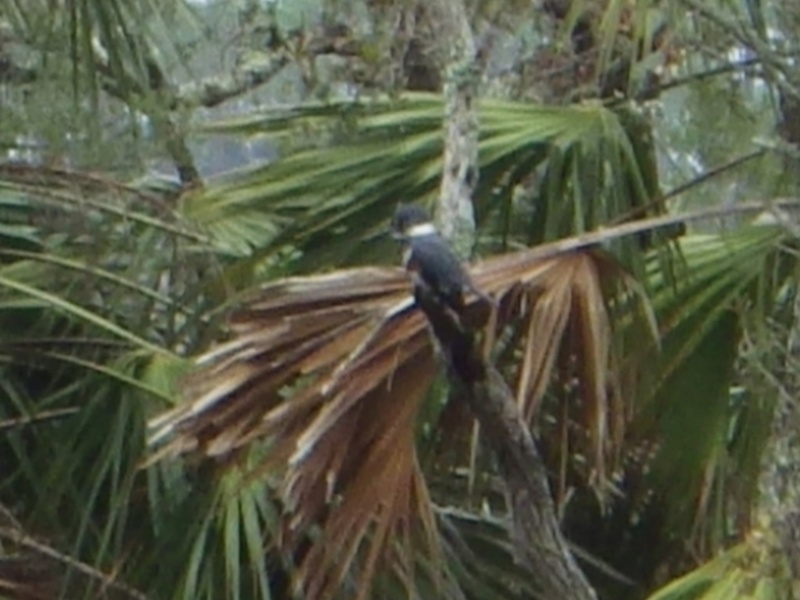kingfisher: (386, 198, 495, 316)
